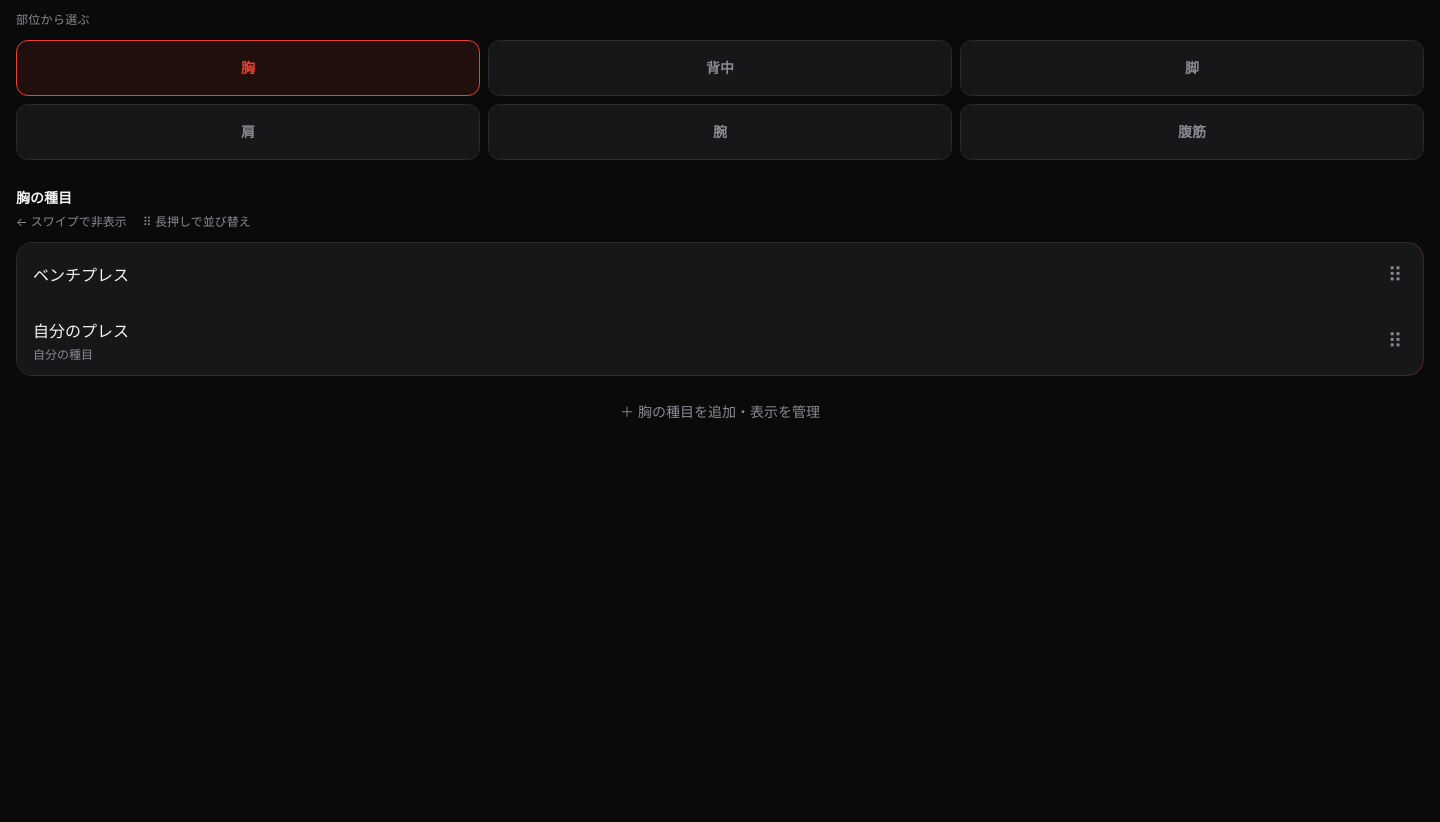
it: ExercisePicker › keeps a candidate unselected when saving fails and allows retry
Click the button "＋ 胸の種目を追加・表示を管理" at [720, 412], box [16,384,1424,440]
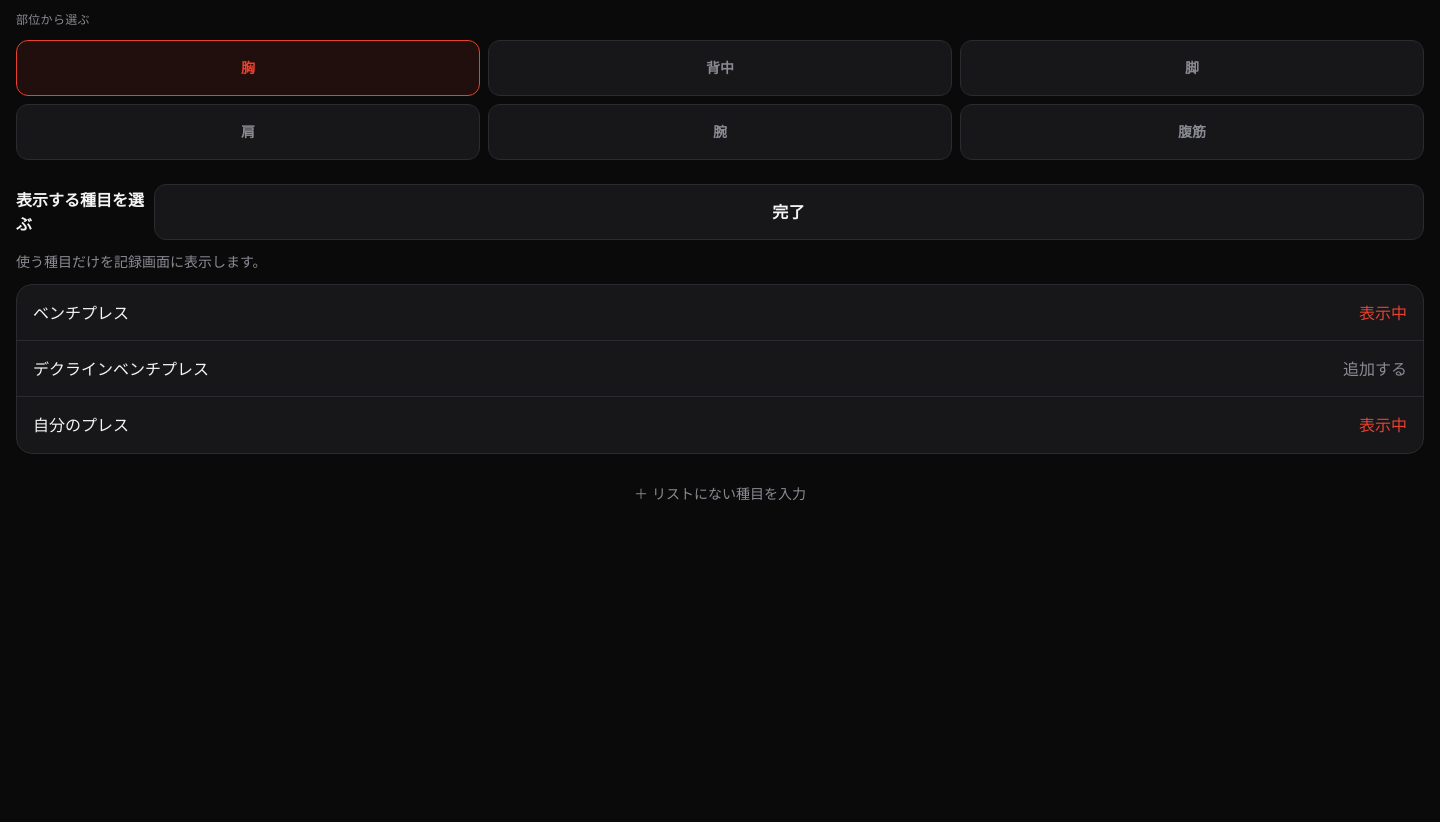
Click the button "デクラインベンチプレス 追加する" at [121, 368], box [17,341,1423,397]
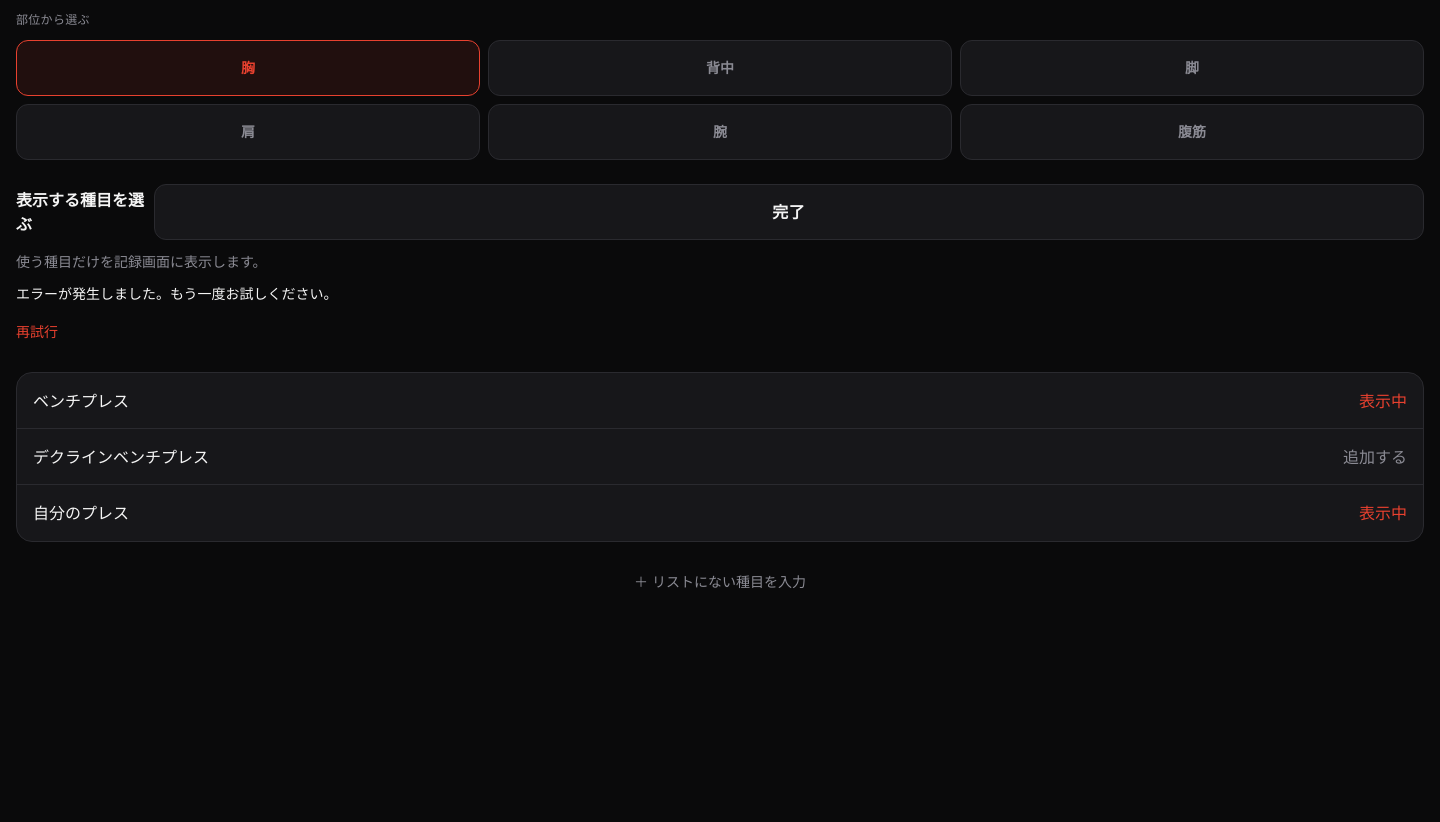
Expected: the message shows "エラーが発生しました", [16,285,338,302]
Click the button "デクラインベンチプレス 追加する" at [121, 456], box [17,429,1423,485]
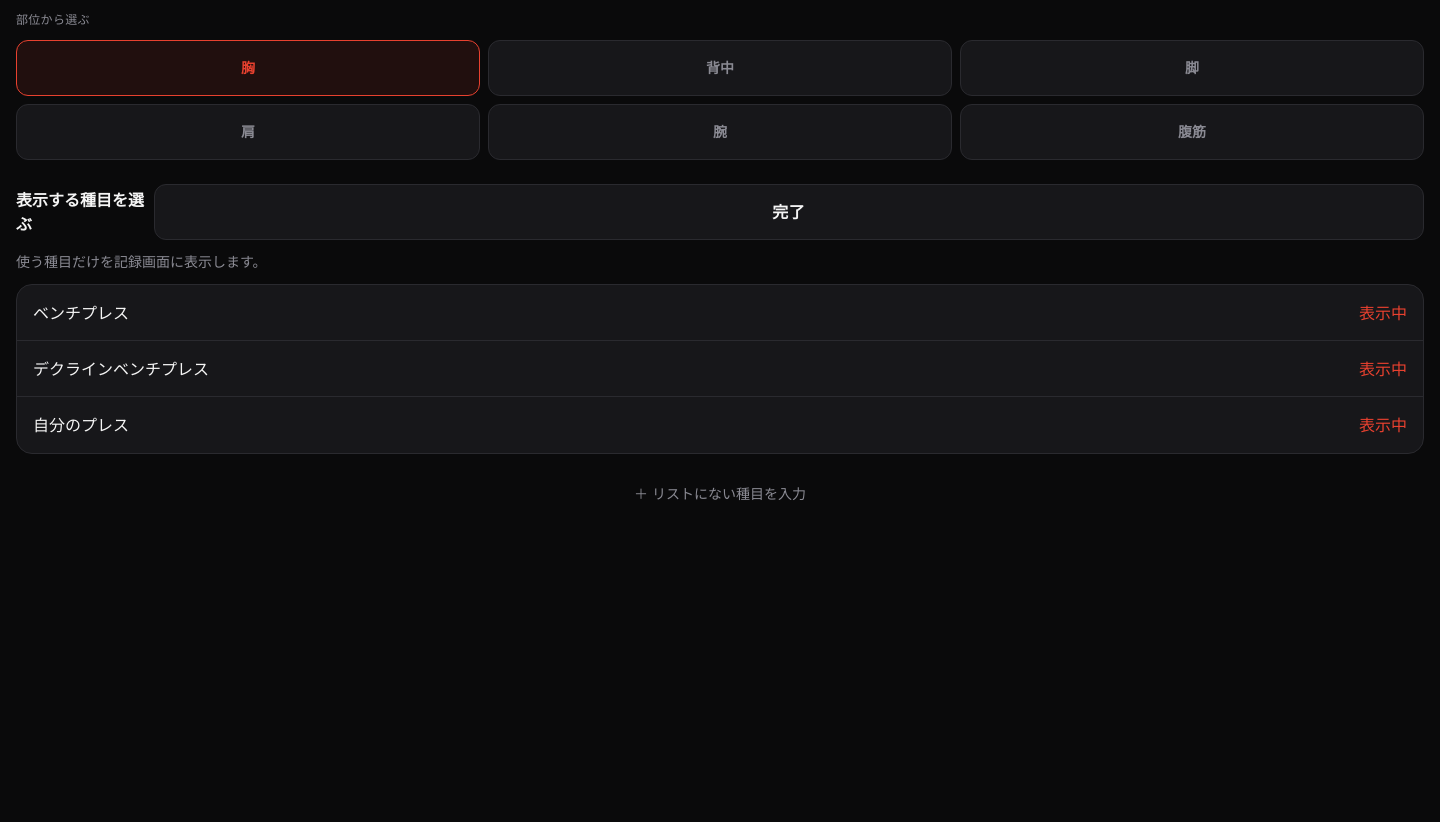
Expected: the button "デクラインベンチプレス 表示中" is shown, [17,341,1423,397]
